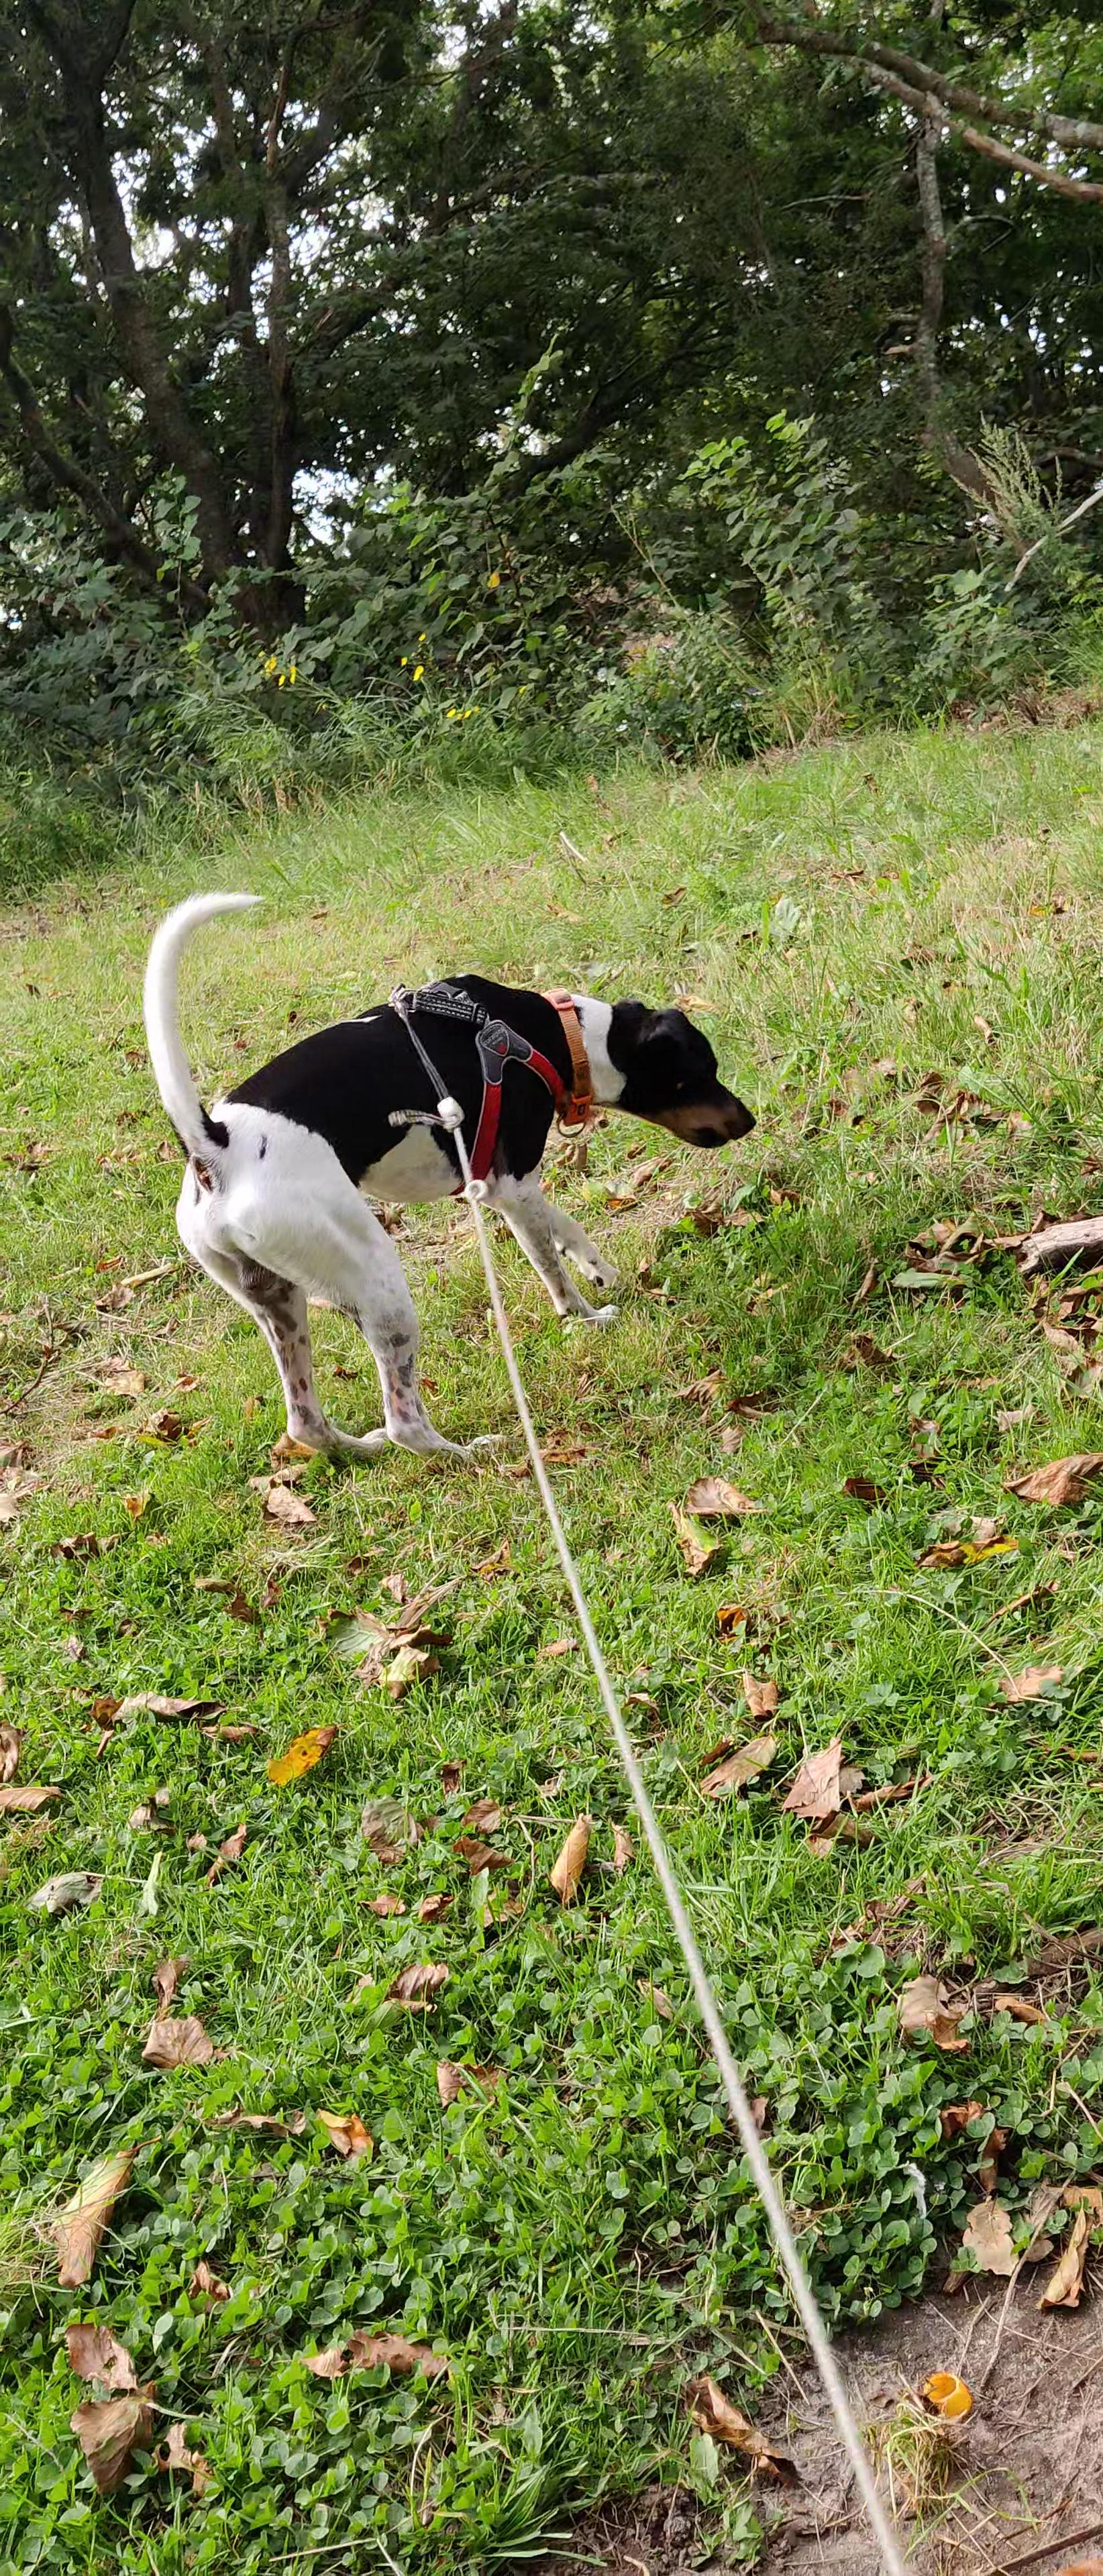Dog: (110, 858, 773, 1482)
